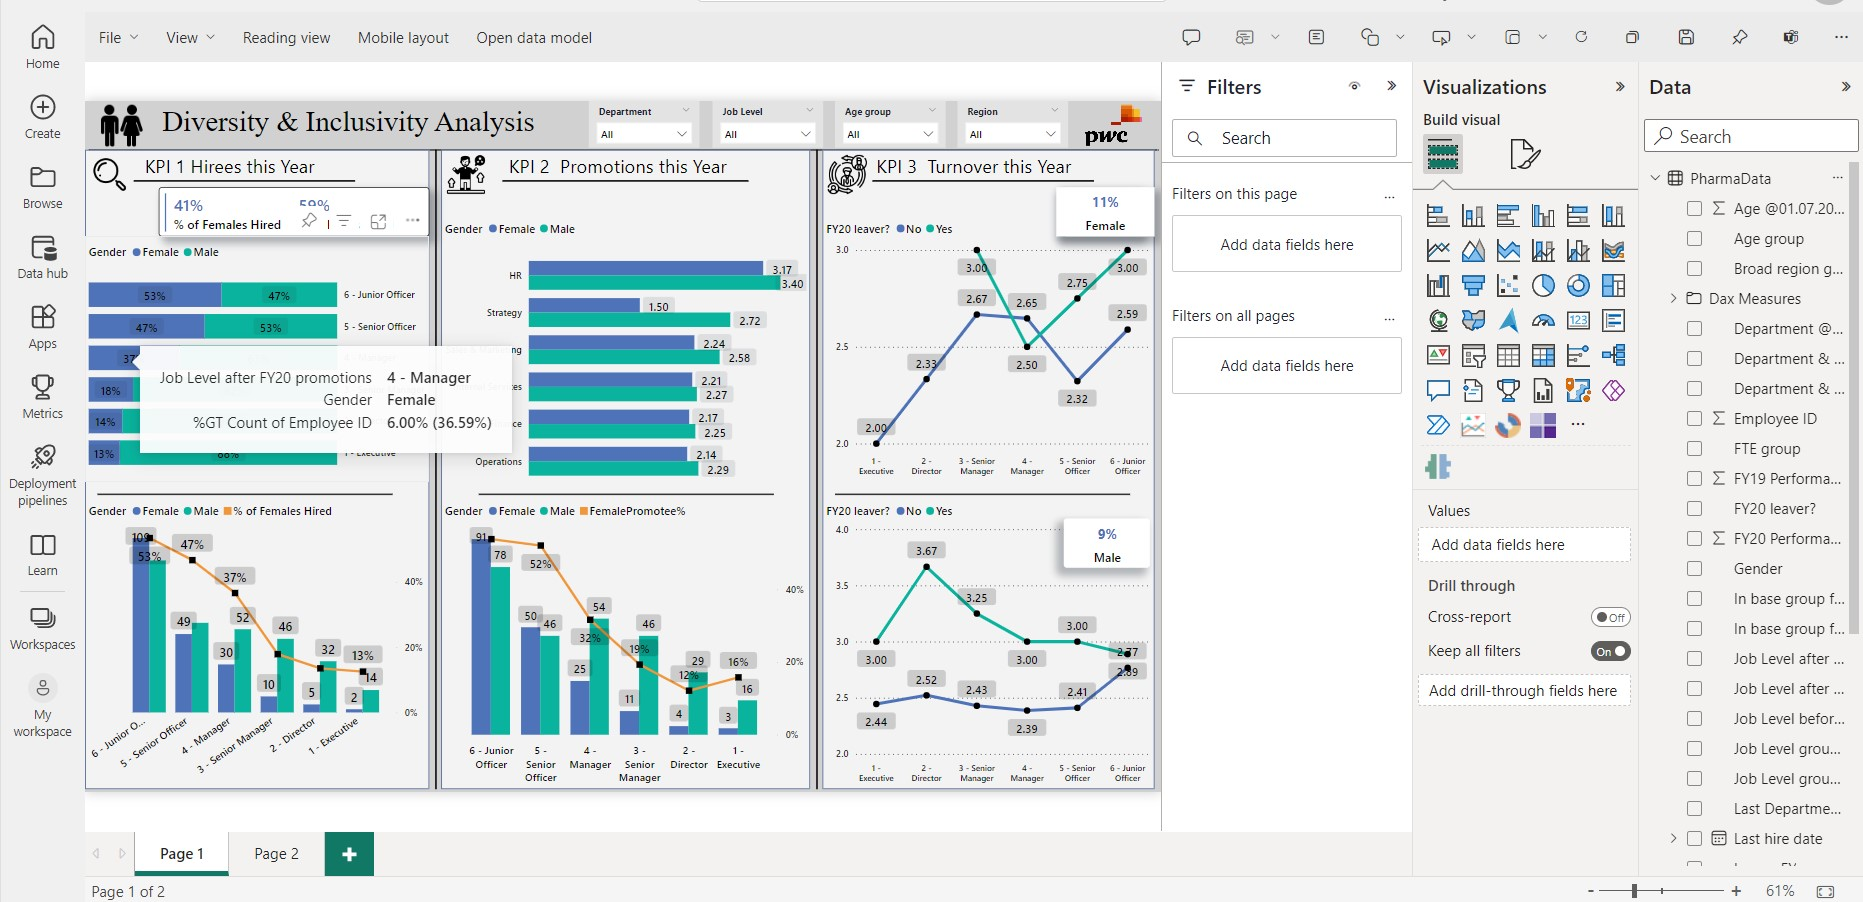

The dashboard page shown, as its layout file describes it:
{"tool":"powerbi","page":{"name":"Page 1","canvas":[1400,900],"ordinal":0},"visuals":[{"type":"textbox","box":[64,0,560,64],"z":0},{"type":"shape","box":[4.2,55.1,1392,16.9],"z":1000},{"type":"image","box":[0,0,96,64],"z":2000},{"type":"image","box":[1274.6,0,125.5,63.5],"z":3000},{"type":"shape","box":[912,64,80,832],"z":4000},{"type":"shape","box":[432,64,48,832],"z":5000},{"type":"shape","box":[464,64,480,832],"z":6000},{"type":"shape","box":[960,64,432,832],"z":7000},{"type":"clusteredBarChart","fields":{"Y":["Avg(PharmaData.Time in Job Level @01.07.2020)"],"Series":["PharmaData.Gender"],"Category":["PharmaData.Last Department in FY20"]},"box":[464,144,480,368],"z":8000},{"type":"lineClusteredColumnComboChart","fields":{"Category":["PharmaData.Job Level after FY21 promotions"],"Y2":["PharmaData.FemalePromotee%"],"Y":["CountNonNull(PharmaData.Employee ID)"],"Series":["PharmaData.Gender"]},"box":[464,512,480,384],"z":9000},{"type":"image","box":[464,64,64,64],"z":10000},{"type":"textbox","box":[528,64,336,48],"z":11000},{"type":"shape","box":[0,64,448,832],"z":12000},{"type":"multiRowCard","fields":{"Values":["PharmaData.% of Females Hired","PharmaData.% of Males Hired"]},"box":[96,112,352,64],"z":13000},{"type":"hundredPercentStackedBarChart","fields":{"Category":["PharmaData.Job Level after FY20 promotions"],"Series":["PharmaData.Gender"],"Y":["Divide(Count(PharmaData.Employee ID), ScopedEval(Count(PharmaData.Employee ID), []))"]},"box":[0,176,448,320],"z":14000},{"type":"lineClusteredColumnComboChart","fields":{"Category":["PharmaData.Job Level after FY20 promotions"],"Series":["PharmaData.Gender"],"Y":["CountNonNull(PharmaData.Employee ID)"],"Y2":["PharmaData.% of Females Hired"]},"box":[0,512,448,384],"z":15000},{"type":"textbox","box":[64,64,256,48],"z":16000},{"type":"image","box":[0,64,64,64],"z":17000},{"type":"image","box":[960,64,64,64],"z":18000},{"type":"lineChart","fields":{"Category":["PharmaData.Job Level after FY20 promotions"],"Series":["PharmaData.FY20 leaver?"],"Y":["Avg(PharmaData.FY19 Performance Rating)"]},"box":[960,144,432,352],"z":19000},{"type":"lineChart","fields":{"Category":["PharmaData.Job Level after FY20 promotions"],"Series":["PharmaData.FY20 leaver?"],"Y":["Avg(PharmaData.FY19 Performance Rating)"]},"box":[960,512,432,384],"z":20000},{"type":"textbox","box":[1024,64,320,48],"z":21000},{"type":"shape","box":[976,480,384,64],"z":22000},{"type":"shape","box":[512,480,384,64],"z":23000},{"type":"shape","box":[16,480,384,64],"z":24000},{"type":"multiRowCard","fields":{"Values":["PharmaData.Gender","PharmaData.Turnover %"]},"box":[1274,112,112,64],"z":25000},{"type":"card","fields":{"Values":["PharmaData.Turnover %"]},"box":[1274,544,112,64],"z":26000},{"type":"shape","box":[64,96,288,16],"z":27000},{"type":"card","fields":{"Values":["PharmaData.Turnover %"]},"box":[1264,112,128,64],"z":28000},{"type":"shape","box":[544,96,320,16],"z":29000},{"type":"shape","box":[1024,96,288,16],"z":30000},{"type":"slicer","fields":{"Values":["PharmaData.Department @01.07.2020"]},"box":[656,0,144,61],"z":31000},{"type":"slicer","fields":{"Values":["PharmaData.Age group"]},"box":[976,0,144,61],"z":32000},{"type":"slicer","fields":{"Values":["PharmaData.Region group: nationality 1"]},"box":[1136,0,144,61],"z":33000},{"type":"slicer","fields":{"Values":["PharmaData.Job Level after FY20 promotions"]},"box":[816,0,144,61],"z":34000}]}

Visuals, with their boxes on the page's 1400x900 design canvas (x1, y1, x2, y2). These are canvas units, not pixel positions in the 1863x902 screenshot, which may show the page scaled, cropped or inside an application window:
textbox: select_region(64, 0, 624, 64)
shape: select_region(4, 55, 1396, 72)
image: select_region(0, 0, 96, 64)
image: select_region(1275, 0, 1400, 64)
shape: select_region(912, 64, 992, 896)
shape: select_region(432, 64, 480, 896)
shape: select_region(464, 64, 944, 896)
shape: select_region(960, 64, 1392, 896)
clusteredBarChart - Avg(PharmaData.Time in Job Level @01.07.2020) x PharmaData.Gender: select_region(464, 144, 944, 512)
lineClusteredColumnComboChart - PharmaData.Job Level after FY21 promotions x PharmaData.FemalePromotee%: select_region(464, 512, 944, 896)
image: select_region(464, 64, 528, 128)
textbox: select_region(528, 64, 864, 112)
shape: select_region(0, 64, 448, 896)
multiRowCard - PharmaData.% of Females Hired x PharmaData.% of Males Hired: select_region(96, 112, 448, 176)
hundredPercentStackedBarChart - PharmaData.Job Level after FY20 promotions x PharmaData.Gender: select_region(0, 176, 448, 496)
lineClusteredColumnComboChart - PharmaData.Job Level after FY20 promotions x PharmaData.Gender: select_region(0, 512, 448, 896)
textbox: select_region(64, 64, 320, 112)
image: select_region(0, 64, 64, 128)
image: select_region(960, 64, 1024, 128)
lineChart - PharmaData.Job Level after FY20 promotions x PharmaData.FY20 leaver?: select_region(960, 144, 1392, 496)
lineChart - PharmaData.Job Level after FY20 promotions x PharmaData.FY20 leaver?: select_region(960, 512, 1392, 896)
textbox: select_region(1024, 64, 1344, 112)
shape: select_region(976, 480, 1360, 544)
shape: select_region(512, 480, 896, 544)
shape: select_region(16, 480, 400, 544)
multiRowCard - PharmaData.Gender x PharmaData.Turnover %: select_region(1274, 112, 1386, 176)
card - PharmaData.Turnover %: select_region(1274, 544, 1386, 608)
shape: select_region(64, 96, 352, 112)
card - PharmaData.Turnover %: select_region(1264, 112, 1392, 176)
shape: select_region(544, 96, 864, 112)
shape: select_region(1024, 96, 1312, 112)
slicer - PharmaData.Department @01.07.2020: select_region(656, 0, 800, 61)
slicer - PharmaData.Age group: select_region(976, 0, 1120, 61)
slicer - PharmaData.Region group: nationality 1: select_region(1136, 0, 1280, 61)
slicer - PharmaData.Job Level after FY20 promotions: select_region(816, 0, 960, 61)
